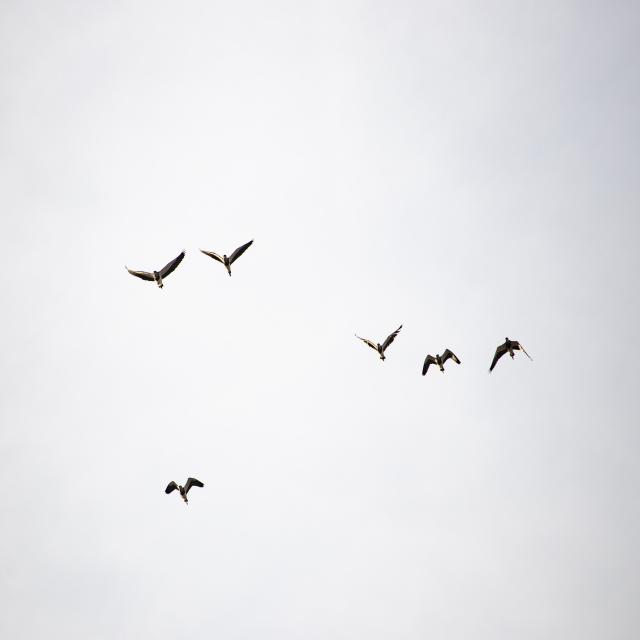bird: (124, 247, 186, 290), (198, 238, 255, 278), (354, 321, 404, 362), (488, 336, 534, 374), (422, 347, 461, 379), (163, 476, 206, 505)
